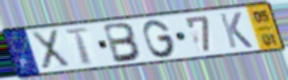7: (183, 14, 211, 54)
B: (102, 21, 145, 65)
G: (141, 18, 178, 59)
K: (217, 10, 255, 50)
T: (63, 26, 95, 66)
X: (29, 28, 74, 70)
